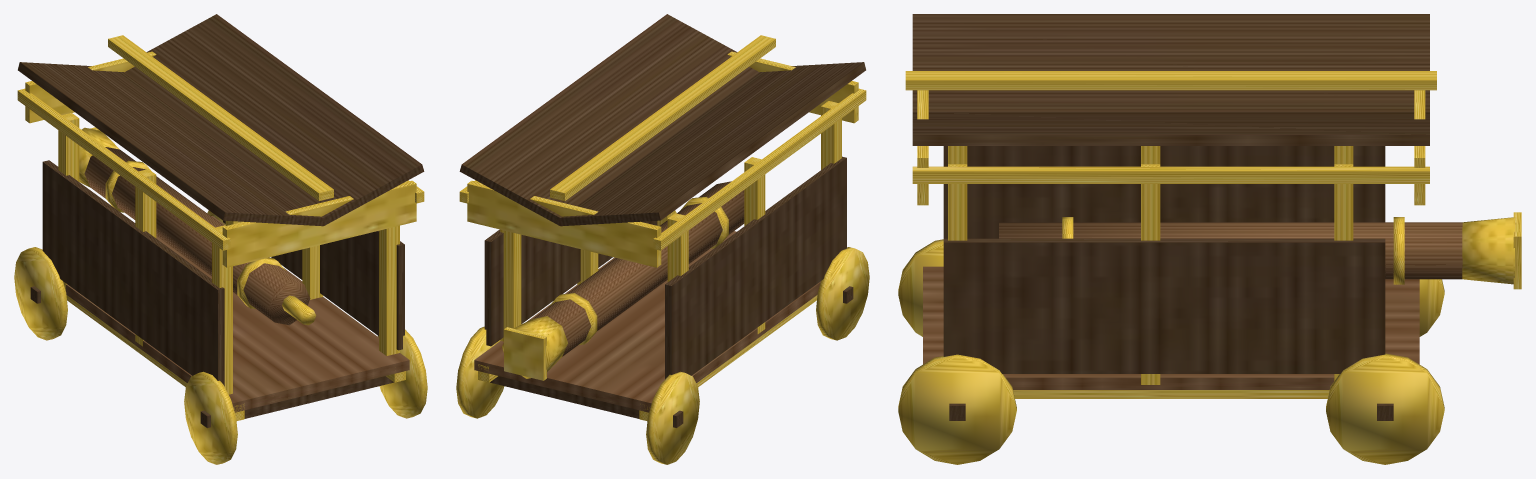
File: ae_ram_royal_lod1.glb
3 renders of one model, left to right at view 1: azimuth 30°, elevation 25°; view 2: azimuth 150°, elevation 25°; view 3: azimuth 270°, elevation 25°, orthographic. The views are drawn at different scales.
Parts seen in each view (by area): view 1: roofR, wallL, roofL, floor, gable_r, log_core, wallR, ridge, eaveL, wheel_RL_tyre, wheel_FL_tyre, post_1_0 (+12 smaller); view 2: roofR, wallL, roofL, floor, log_core, gable_f, wallR, ridge, eaveL, wheel_FL_tyre, wheel_RL_tyre, wheel_FR_tyre (+12 smaller); view 3: wallR, roofL, wallL, roofR, ridge, wheel_RR_tyre, wheel_FR_tyre, log_core, floor, eaveR, ram_head, runnerR (+8 smaller).
Boxes of the visible parts, bbox=[...] form: roofR: bbox=[125, 14, 424, 225]; wallL: bbox=[42, 160, 224, 386]; roofL: bbox=[18, 62, 325, 226]; floor: bbox=[65, 215, 409, 412]; gable_r: bbox=[222, 180, 416, 267]; log_core: bbox=[84, 147, 310, 325]; wallR: bbox=[223, 220, 404, 350]; ridge: bbox=[108, 35, 333, 200]; eaveL: bbox=[17, 88, 230, 250]; wheel_RL_tyre: bbox=[184, 371, 237, 464]; wheel_FL_tyre: bbox=[14, 247, 67, 340]; post_1_0: bbox=[379, 225, 399, 355]; roofR: bbox=[459, 14, 758, 225]; wallL: bbox=[665, 156, 846, 379]; roofL: bbox=[558, 62, 865, 226]; floor: bbox=[474, 231, 820, 412]; log_core: bbox=[533, 181, 744, 356]; gable_f: bbox=[467, 180, 661, 267]; wallR: bbox=[484, 221, 657, 346]; ridge: bbox=[550, 35, 775, 200]; eaveL: bbox=[653, 88, 866, 250]; wheel_FL_tyre: bbox=[646, 371, 699, 464]; wheel_RL_tyre: bbox=[816, 247, 869, 340]; wheel_FR_tyre: bbox=[456, 326, 504, 418]; wallR: bbox=[943, 238, 1385, 373]; roofL: bbox=[912, 14, 1429, 111]; wallL: bbox=[943, 146, 1385, 238]; roofR: bbox=[912, 111, 1429, 145]; ridge: bbox=[905, 71, 1436, 90]; wheel_RR_tyre: bbox=[898, 354, 1016, 464]; wheel_FR_tyre: bbox=[1326, 353, 1444, 464]; log_core: bbox=[999, 222, 1462, 279]; floor: bbox=[923, 266, 1419, 389]; eaveR: bbox=[912, 166, 1429, 183]; ram_head: bbox=[1462, 217, 1514, 284]; runnerR: bbox=[1013, 390, 1329, 398].
Size of the model in its own units: 2.15 by 2.64 by 4.52.
Materials: 2 (2 with a texture image).
